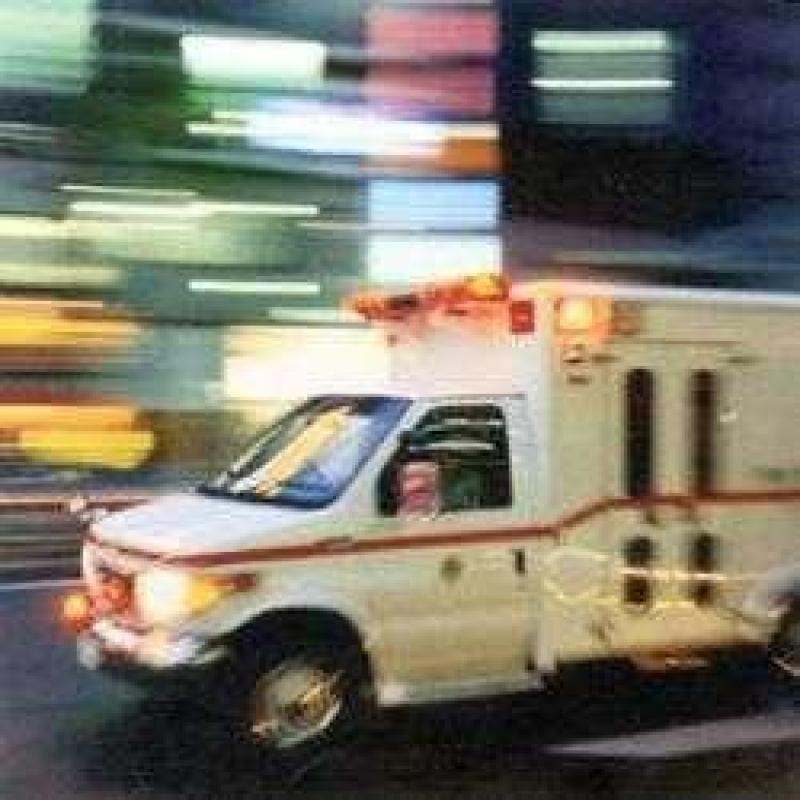AmbulanceSiren: (335, 264, 530, 347)
